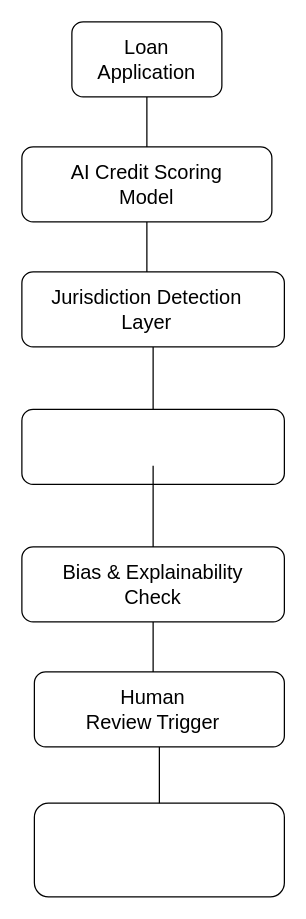
Image size: 306x919. Some labels were removed from this diagram. Here are the shapes that lost their labels. From the top down, the centre of each, then its label:
At (152,446): "Governance Rules Engine".
At (158,849): "Compliance Output Dashboard".
